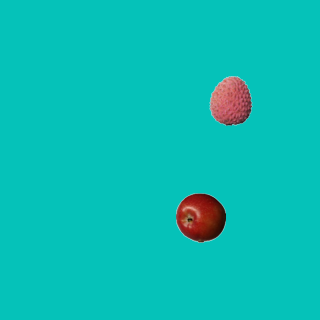Apple Braeburn: (175, 192, 225, 242)
Lychee: (205, 75, 255, 125)
